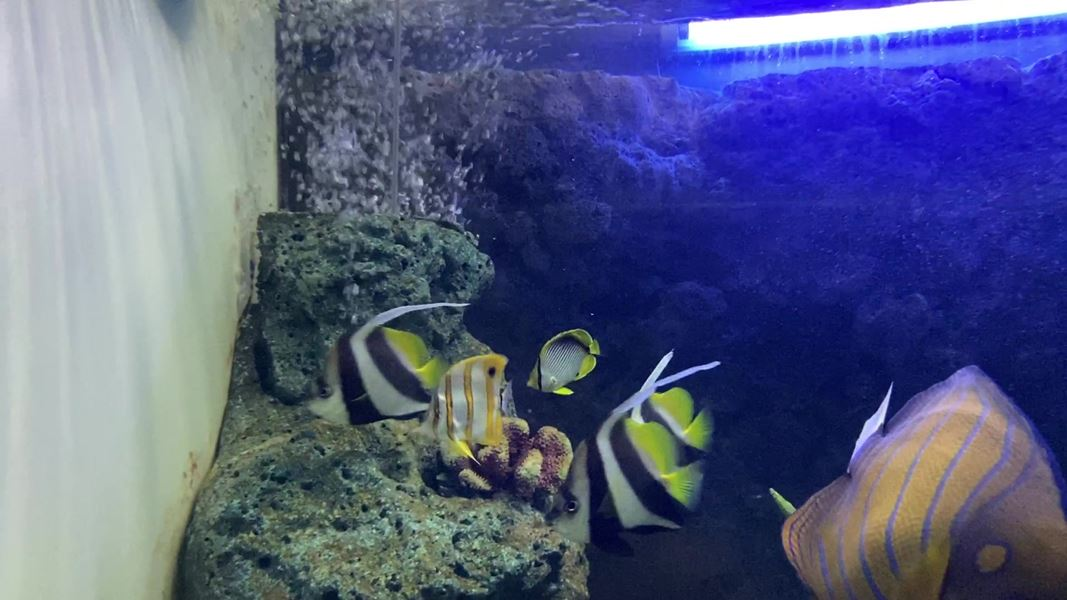Black-backed butterflyfish: (520, 321, 616, 402)
